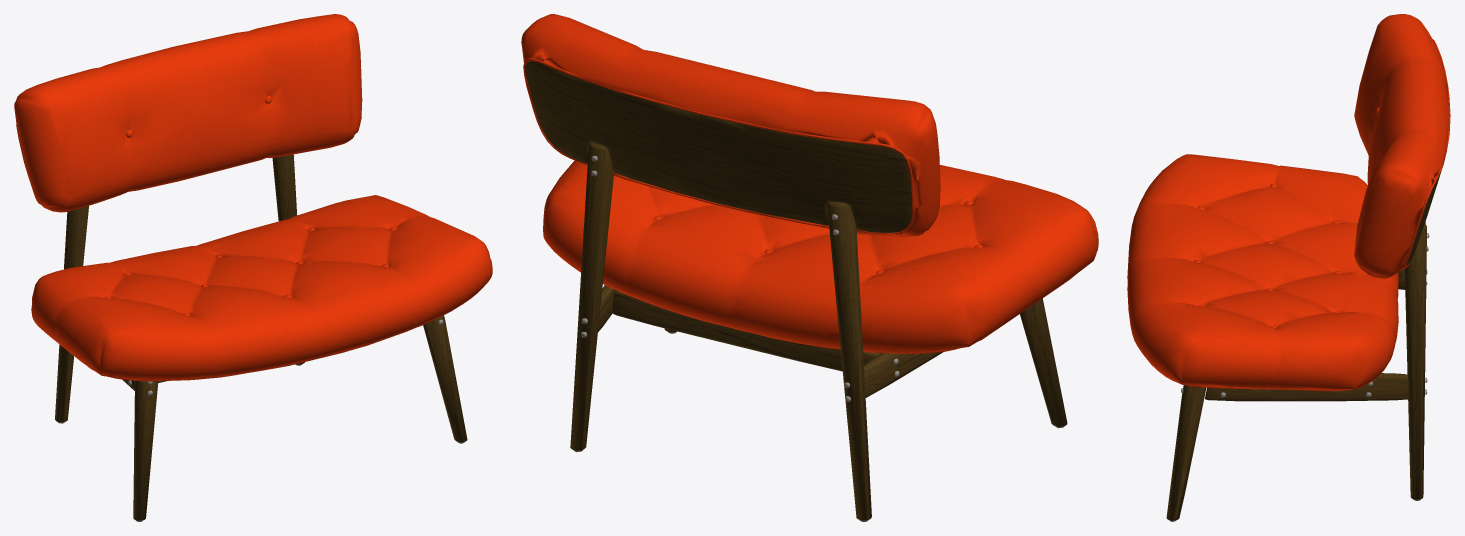
The model's file is armchair.glb.
The picture shows the model from 3 angles, left to right: view 1: azimuth 30°, elevation 25°; view 2: azimuth 150°, elevation 25°; view 3: azimuth 270°, elevation 25°; orthographic projection. The views are drawn at different scales.
Parts seen in each view (by area): view 1: SheenChair_fabric, SheenChair_wood; view 2: SheenChair_fabric, SheenChair_wood; view 3: SheenChair_fabric, SheenChair_wood.
Boxes of the visible parts, box(x1,y1,x2,y2) form: SheenChair_fabric: box(14, 14, 492, 381); SheenChair_wood: box(55, 154, 467, 520); SheenChair_fabric: box(521, 14, 1098, 354); SheenChair_wood: box(525, 61, 1067, 520); SheenChair_fabric: box(1127, 14, 1450, 391); SheenChair_wood: box(1166, 169, 1441, 520).
Bounding box in the file's own units: 0.8265 × 0.6855 × 0.5703.
Materials: 4 (3 with a texture image).
